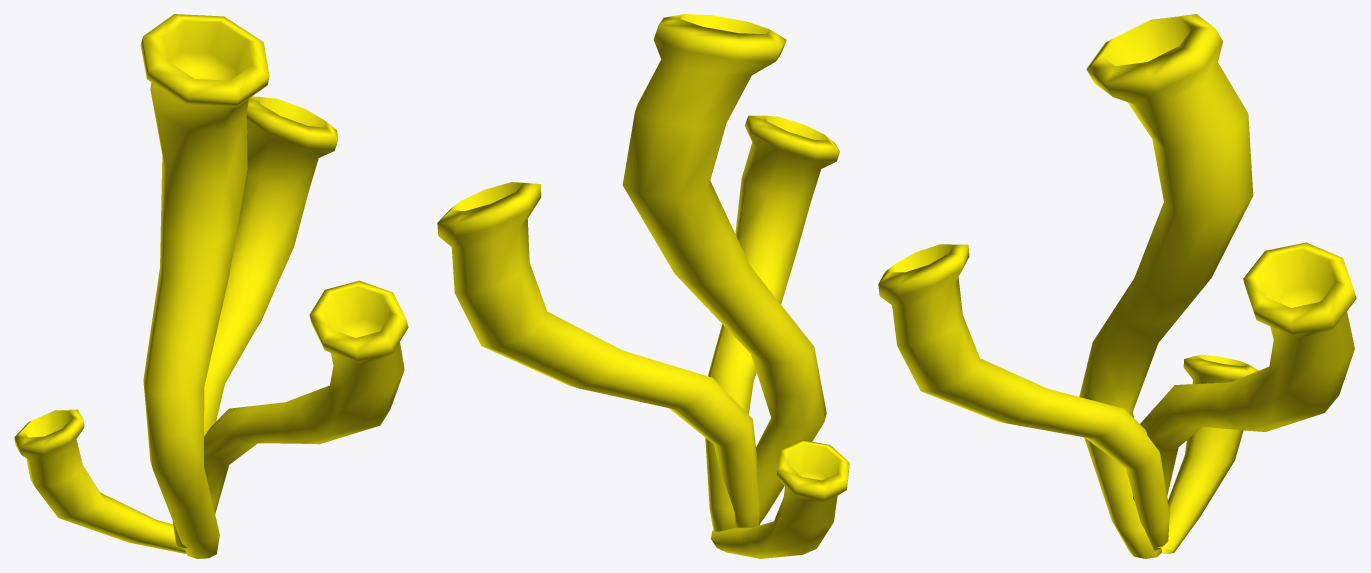
Rendered from yellow_coral.glb.
3 renders of one model, left to right at view 1: azimuth 30°, elevation 25°; view 2: azimuth 150°, elevation 25°; view 3: azimuth 270°, elevation 25°, orthographic. The views are drawn at different scales.
Parts seen in each view (by area): view 1: node_id7; view 2: node_id7; view 3: node_id7.
Boxes of the visible parts, x1,y1,x2,y2 form: node_id7: (14,14,408,558); node_id7: (437,14,849,558); node_id7: (878,14,1356,558).
Size of the model in its own units: 0.0247 by 0.0347 by 0.0283.
1 material, 1 textured.
